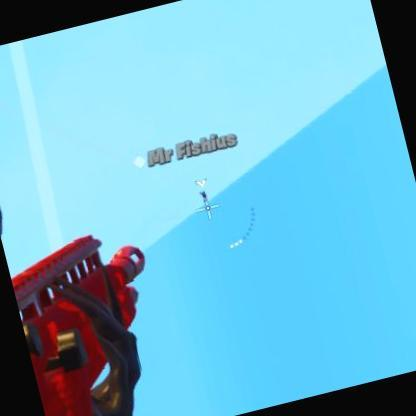person: (197, 184, 215, 214)
